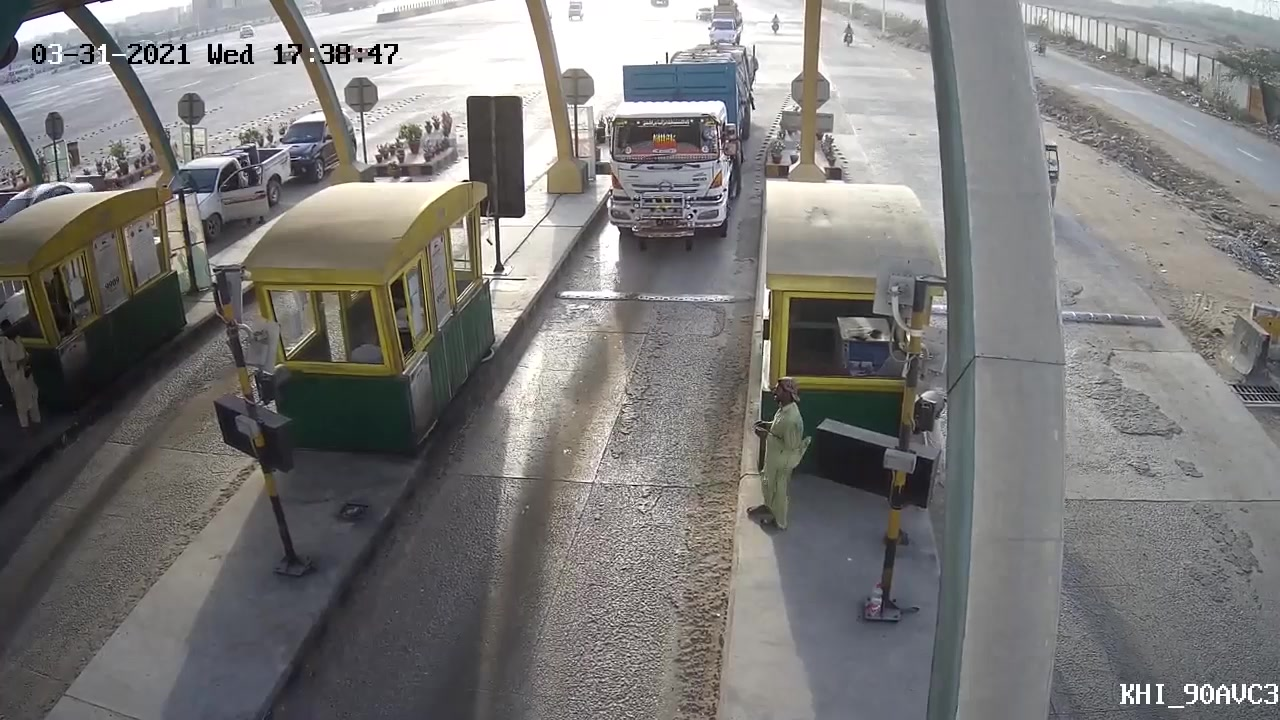F6: (596, 29, 763, 260)
